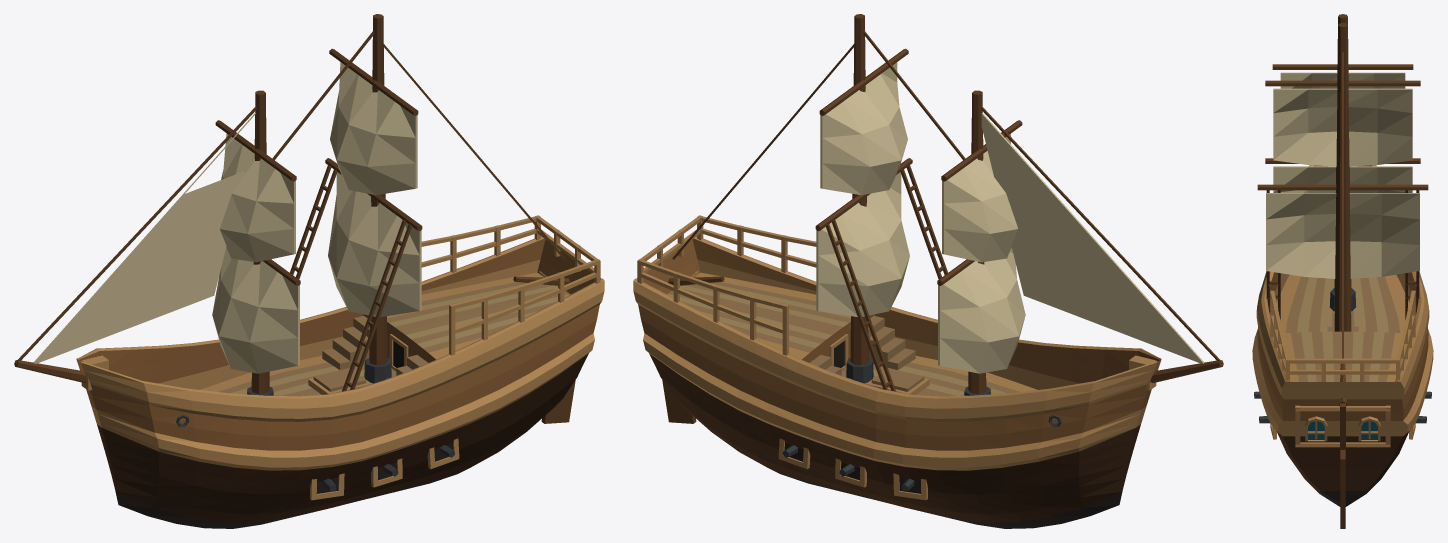
Rendered from brigantine.glb.
3 renders of one model, left to right at view 1: azimuth 30°, elevation 25°; view 2: azimuth 150°, elevation 25°; view 3: azimuth 270°, elevation 25°, orthographic. The views are drawn at different scales.
Parts seen in each view (by area): view 1: object 1, mast-main, mast-fore, rudder; view 2: object 1, mast-main, mast-fore, rudder; view 3: object 1, mast-main, mast-fore, rudder.
Boxes of the visible parts, x1,y1,x2,y2 form: object 1: (14,31,604,528); mast-main: (325,14,422,383); mast-fore: (212,90,300,395); rudder: (513,276,575,423); object 1: (633,31,1223,528); mast-main: (815,14,912,383); mast-fore: (937,90,1025,395); rudder: (662,276,724,423); object 1: (1252,52,1433,506); mast-main: (1257,23,1428,331); mast-fore: (1265,14,1420,311); rudder: (1339,363,1346,528).
Size of the model in its own units: 16.35 by 13.2 by 4.89.
